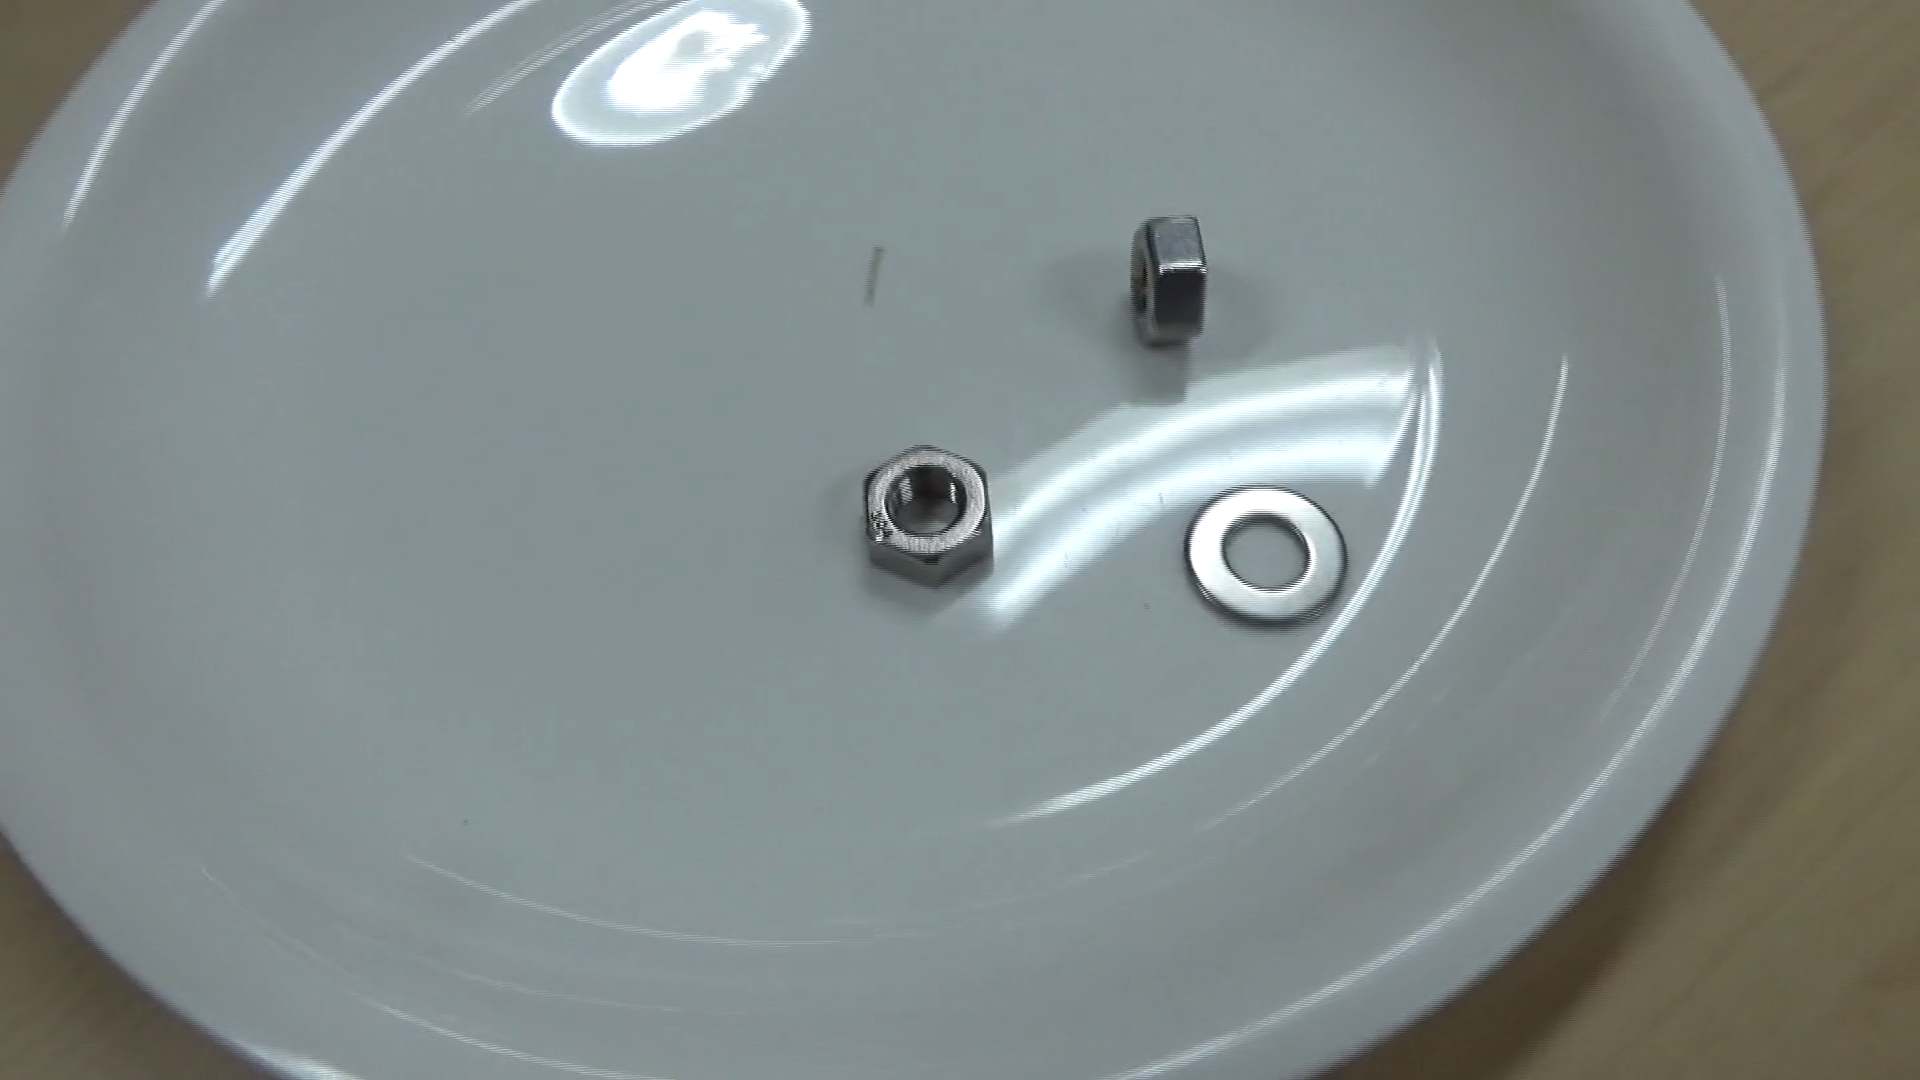nut: (858, 446, 998, 593), (1126, 206, 1209, 353)
washer: (1182, 477, 1350, 629)
